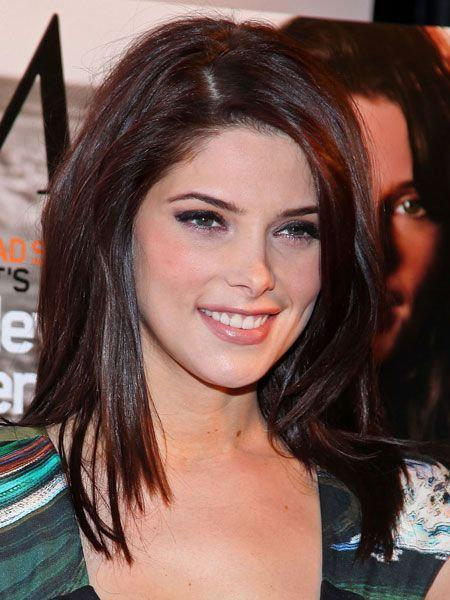Sober: (140, 124, 313, 376)
